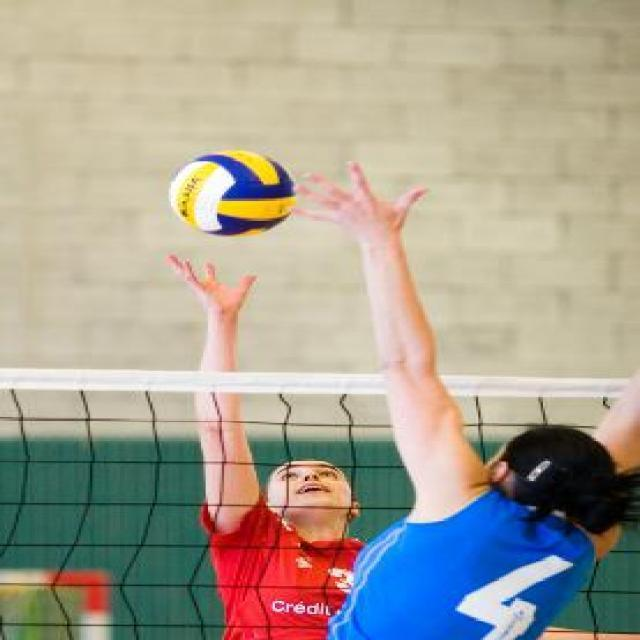volleyball: (169, 148, 295, 239)
